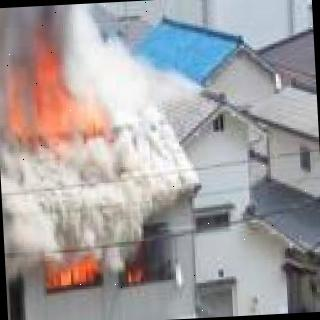fire: (7, 56, 117, 146), (39, 255, 114, 292)
